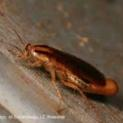cockroach: (23, 42, 107, 88)
